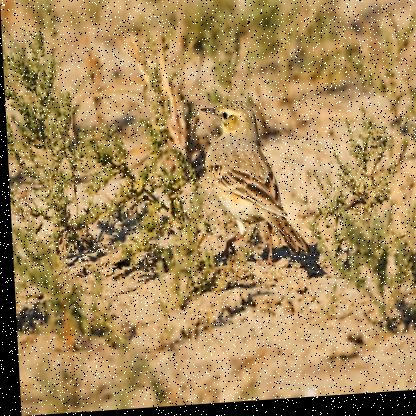Burung: (203, 98, 306, 270)
